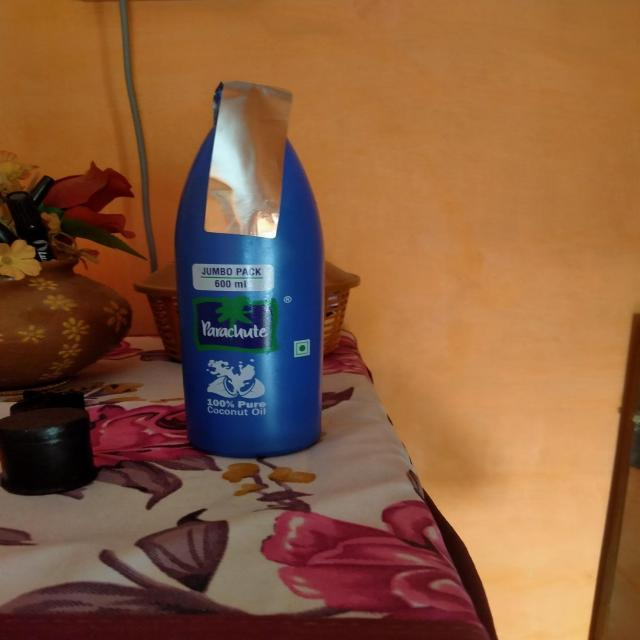parachute_oil: (168, 74, 337, 466)
